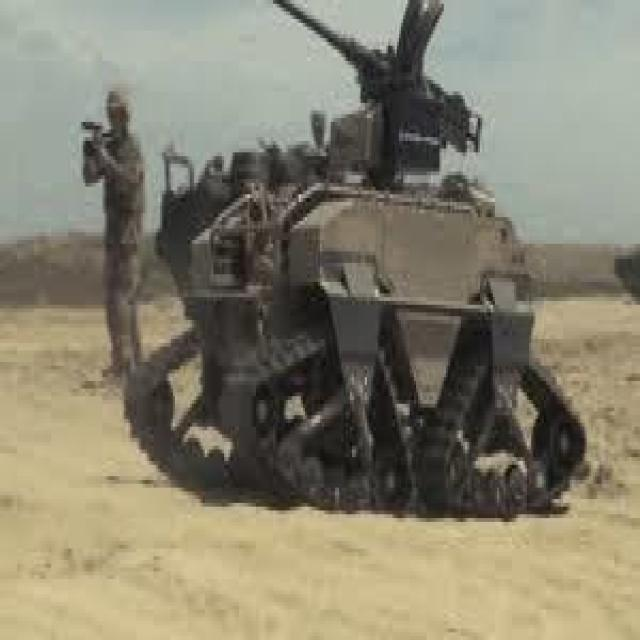Tanks: (158, 72, 589, 538)
